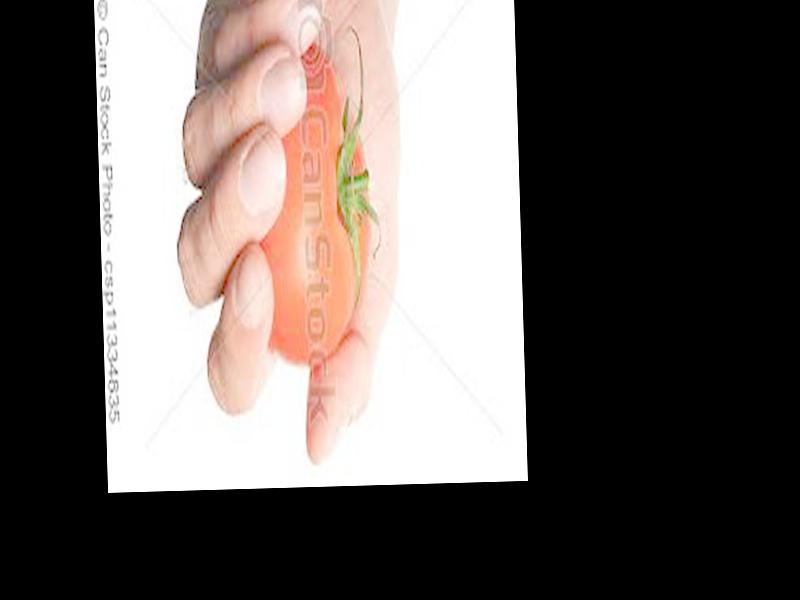Tomato: (257, 44, 372, 366)
